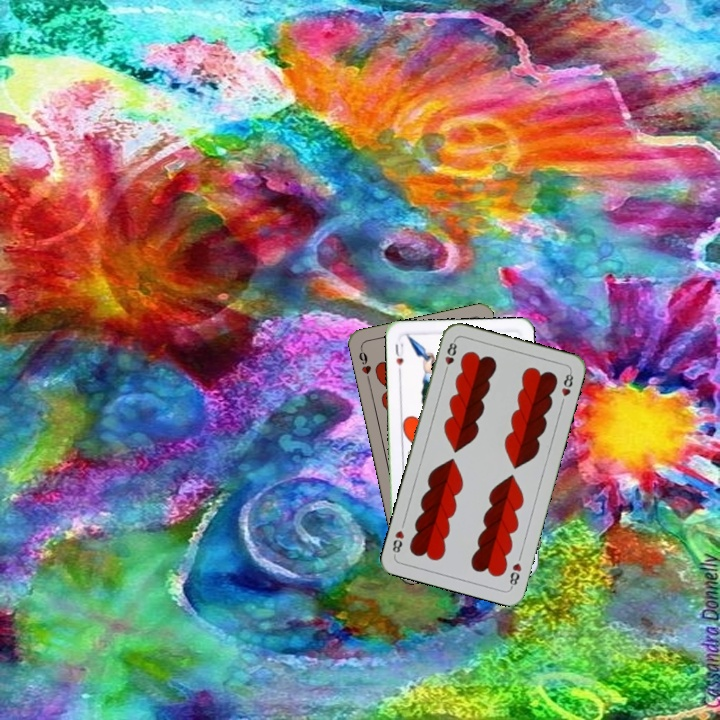H8: (440, 337, 460, 377), (505, 559, 524, 590)
H9: (355, 344, 374, 384)
HU: (391, 339, 406, 376)
